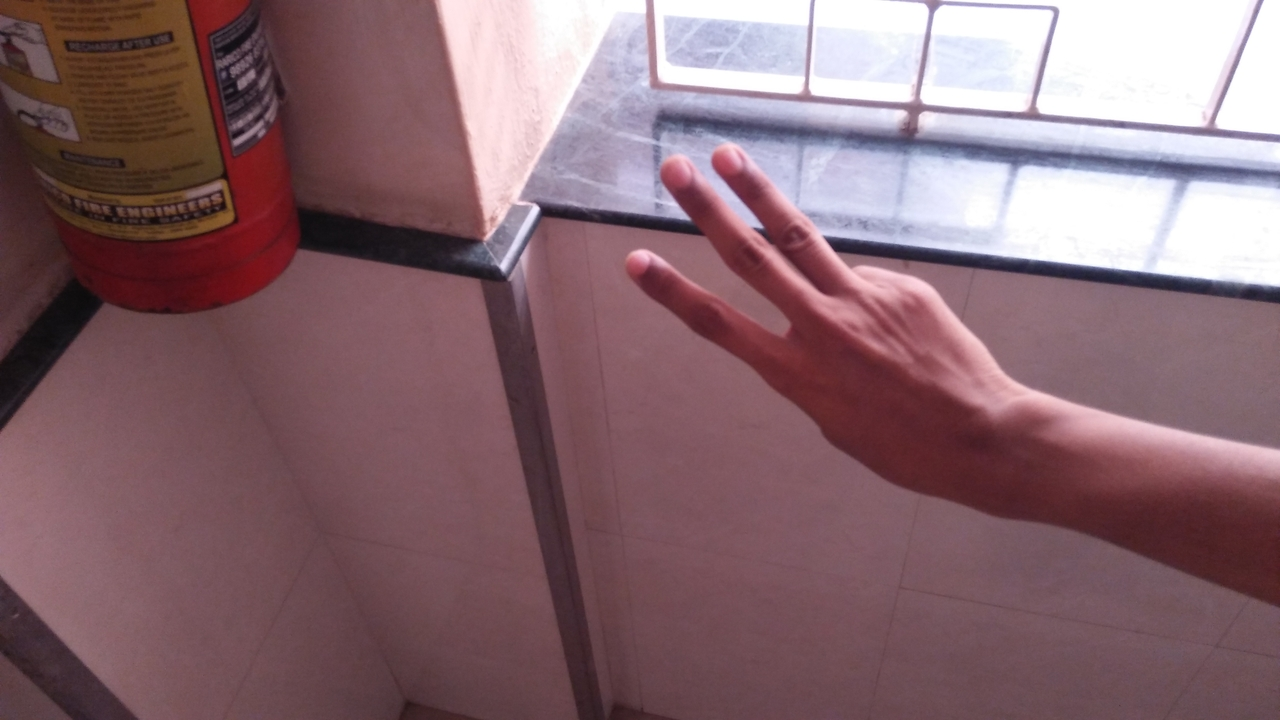fingertip: (702, 134, 766, 190), (616, 234, 674, 292), (652, 142, 708, 190)
